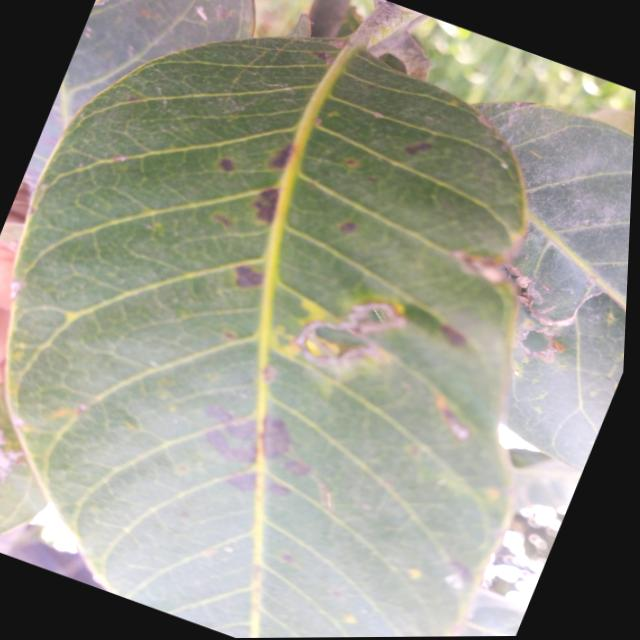Anthracnose: (232, 408, 313, 477), (245, 177, 296, 232), (225, 260, 271, 297)
